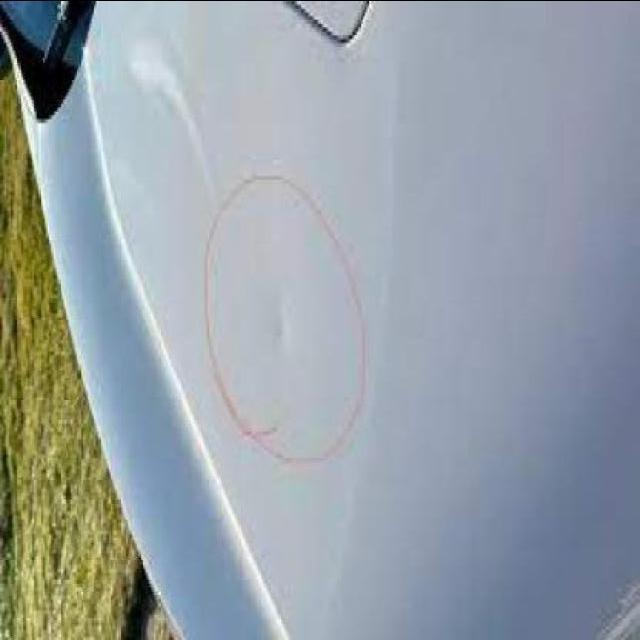bonnet-dent: (258, 280, 305, 358)
